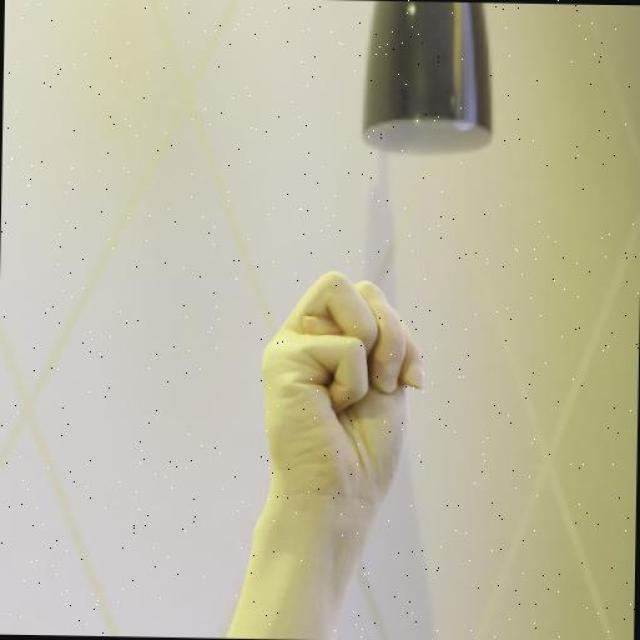M: (258, 270, 430, 515)
